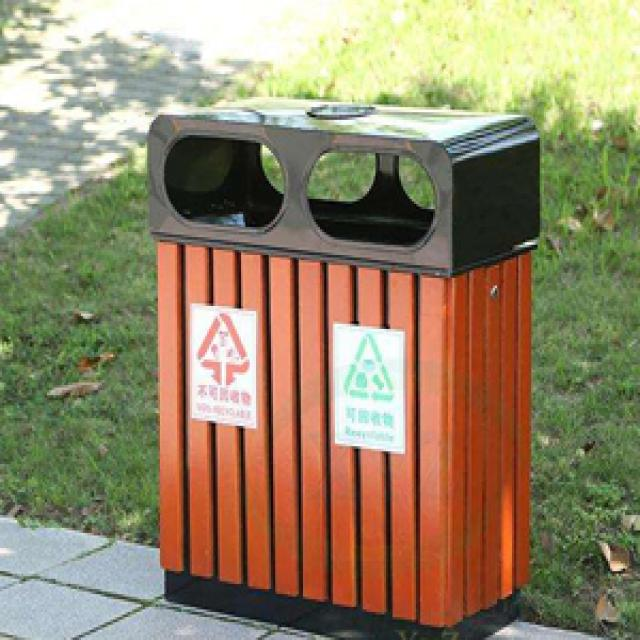garbage_bin: (145, 97, 538, 637)
